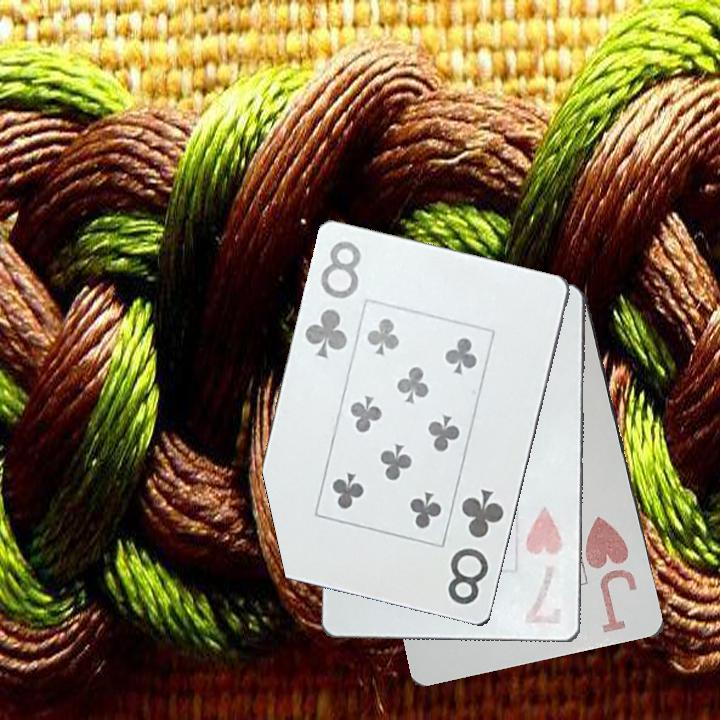7h: (519, 503, 567, 629)
8c: (444, 485, 508, 609), (301, 238, 365, 362)
Jh: (582, 513, 641, 637)
